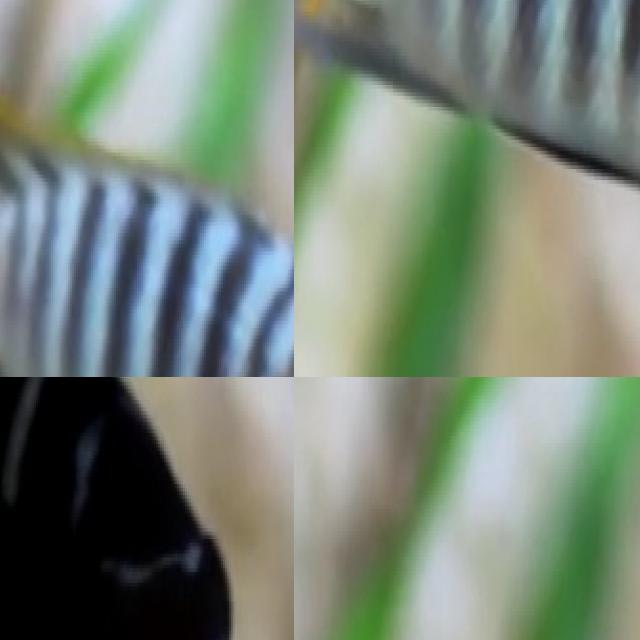fish: (0, 0, 294, 377), (294, 0, 640, 180)
